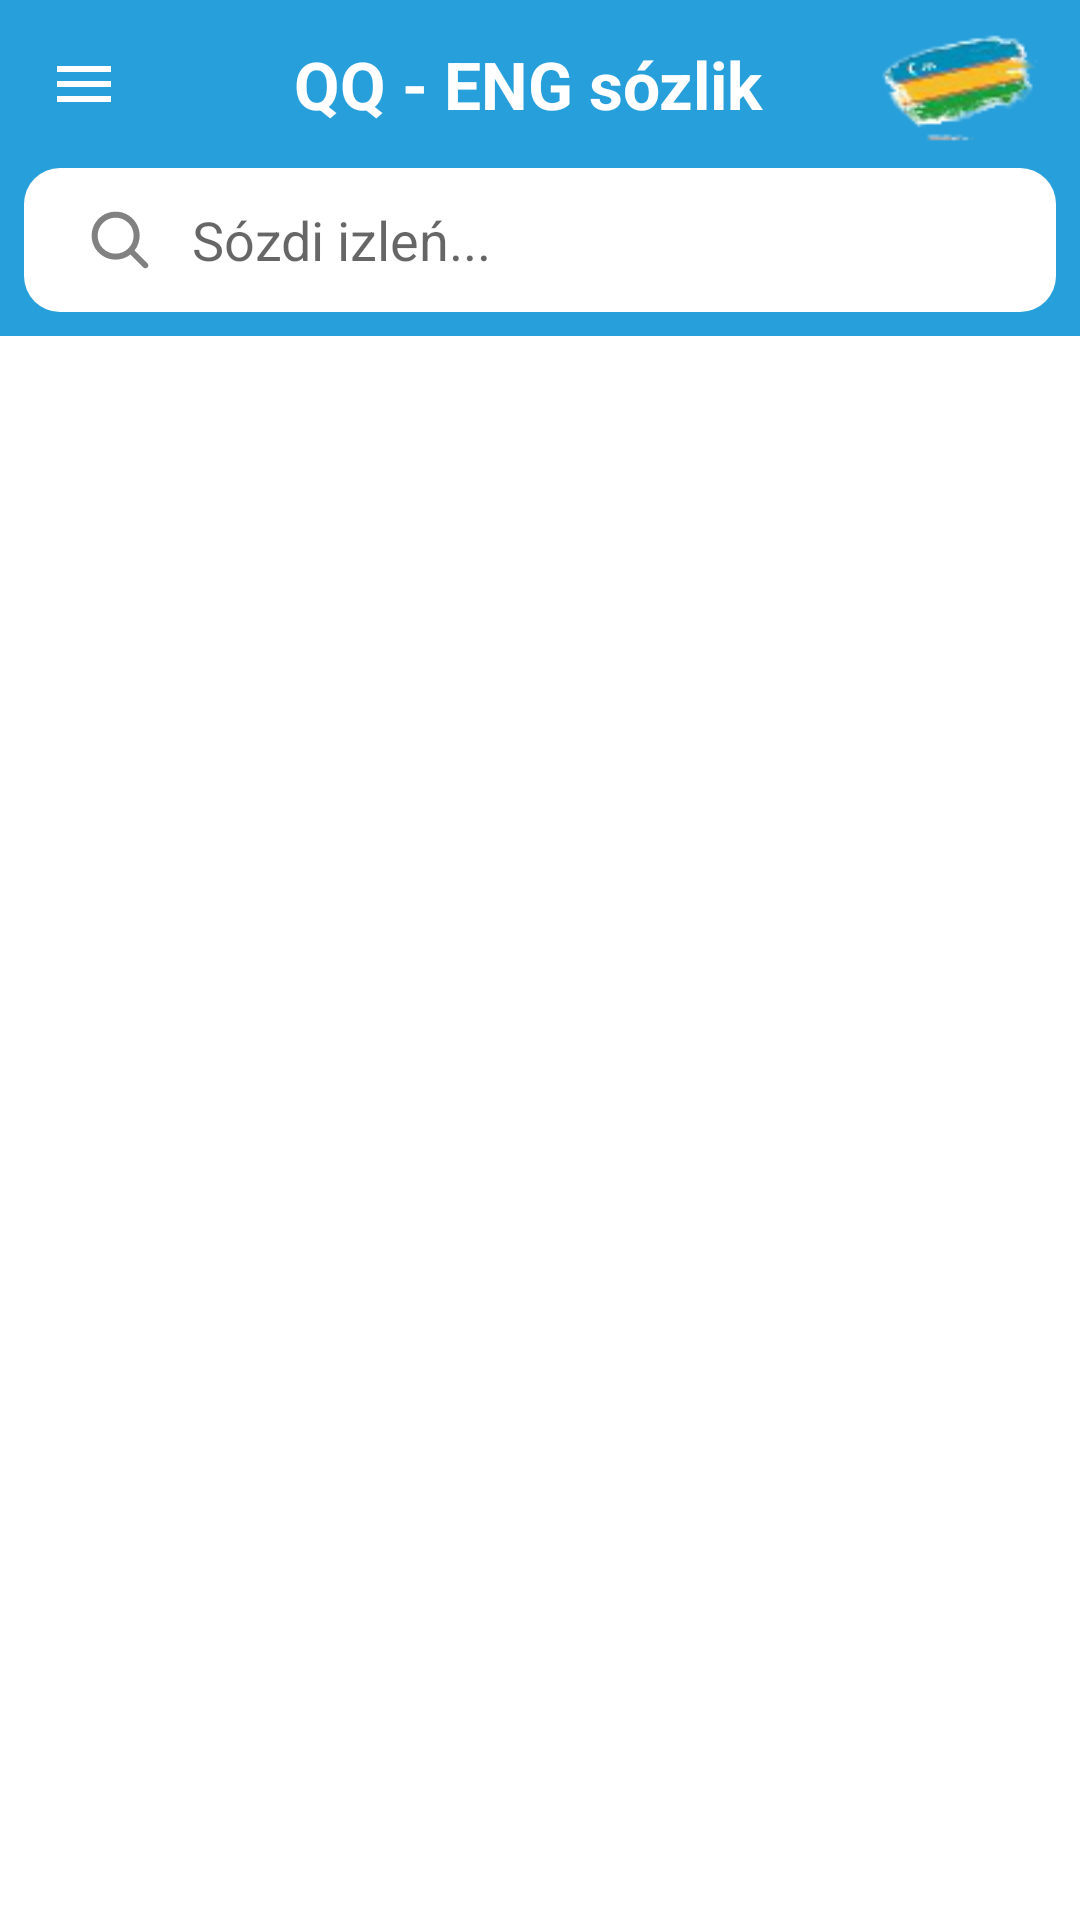

Named icons in this screenshot (1080x1920) and their centers, (x,y):
flag: (958,88)
menu: (84,84)
